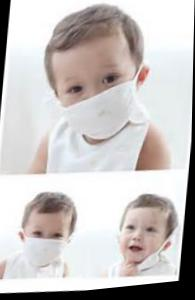OK: (53, 56, 138, 148), (24, 221, 71, 271)
WRONG: (120, 218, 163, 271)
